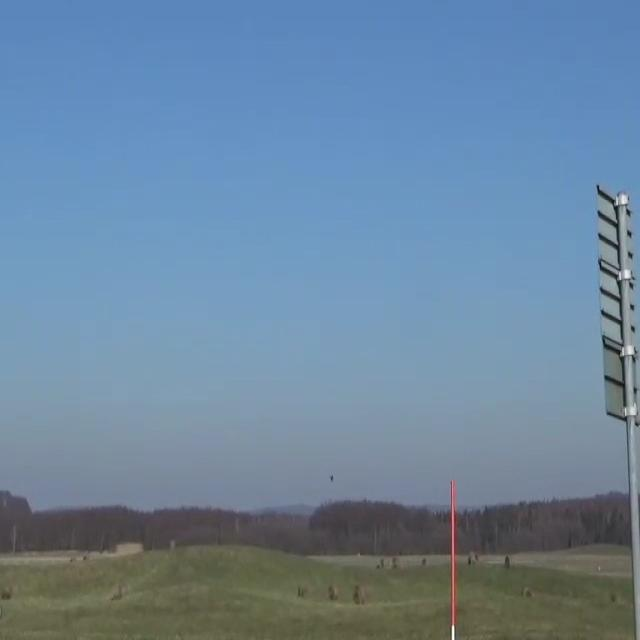bird: (329, 473, 335, 485)
